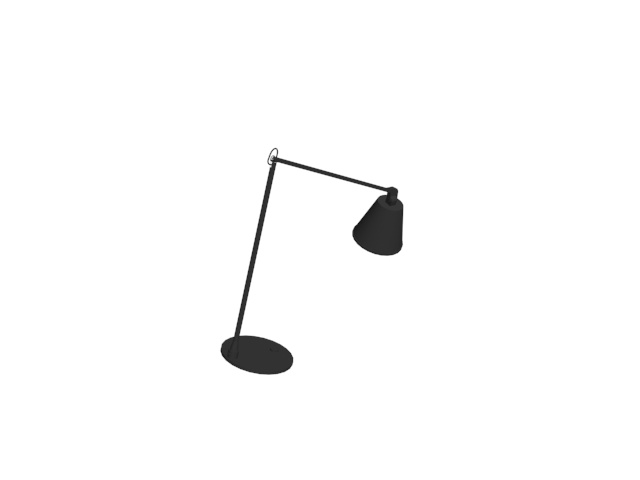desk_lamp: (217, 145, 408, 376)
